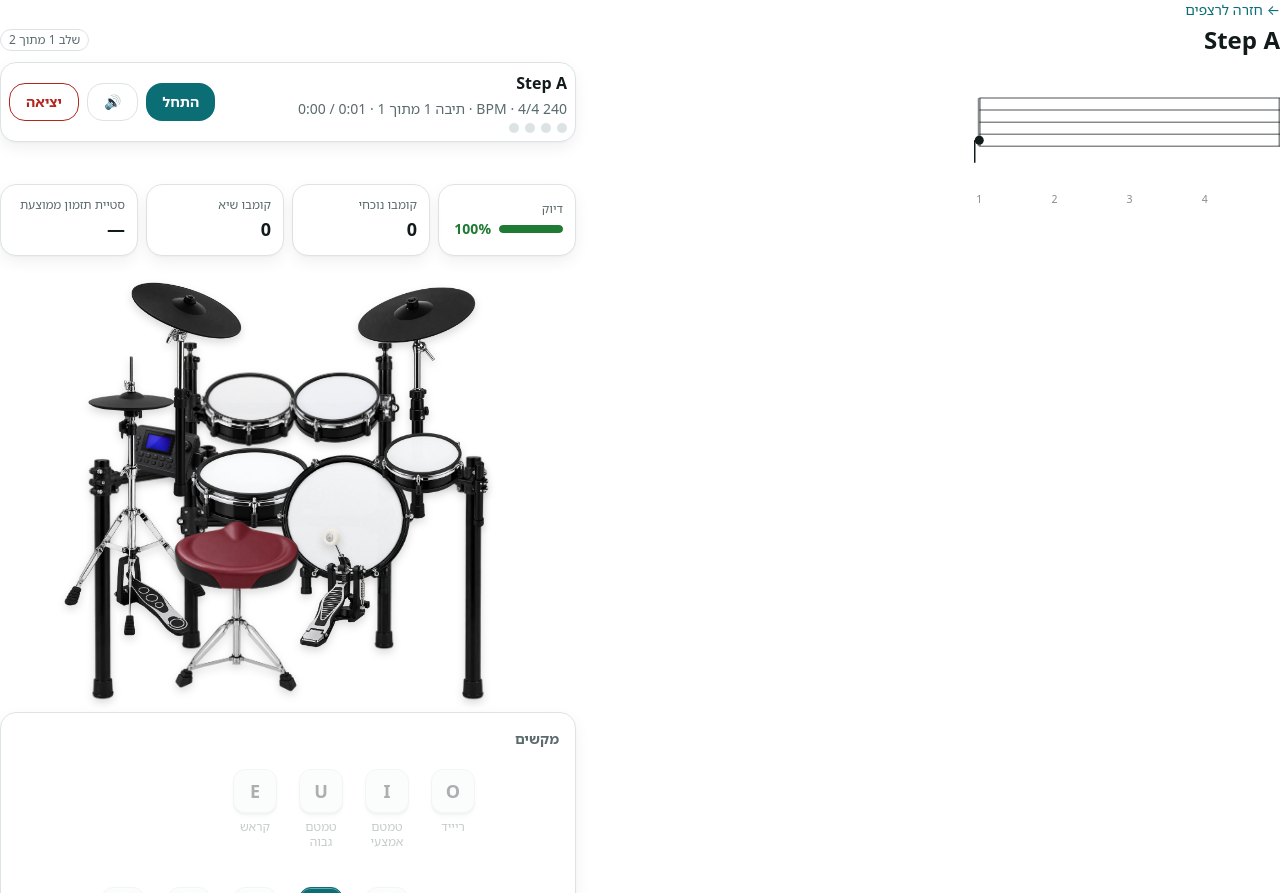
Test: RoutinePlayerPage › runs a 2-step routine end to end without creating a second AudioContext for step 2
Click the button "התחל": click(181, 102) [146,83,215,121]
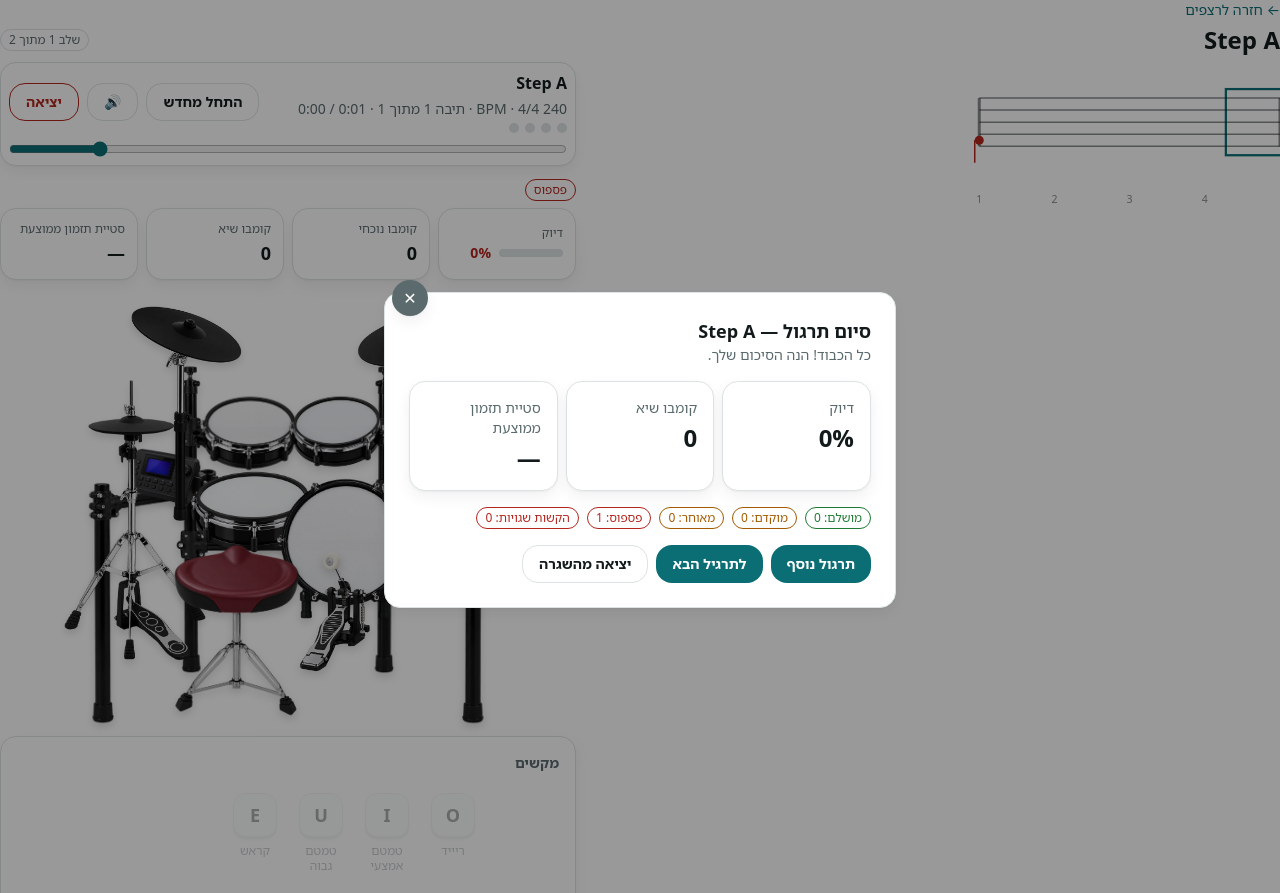
Result: the button "לתרגיל הבא" is shown
Click the button "לתרגיל הבא": click(710, 564) [656,545,763,583]
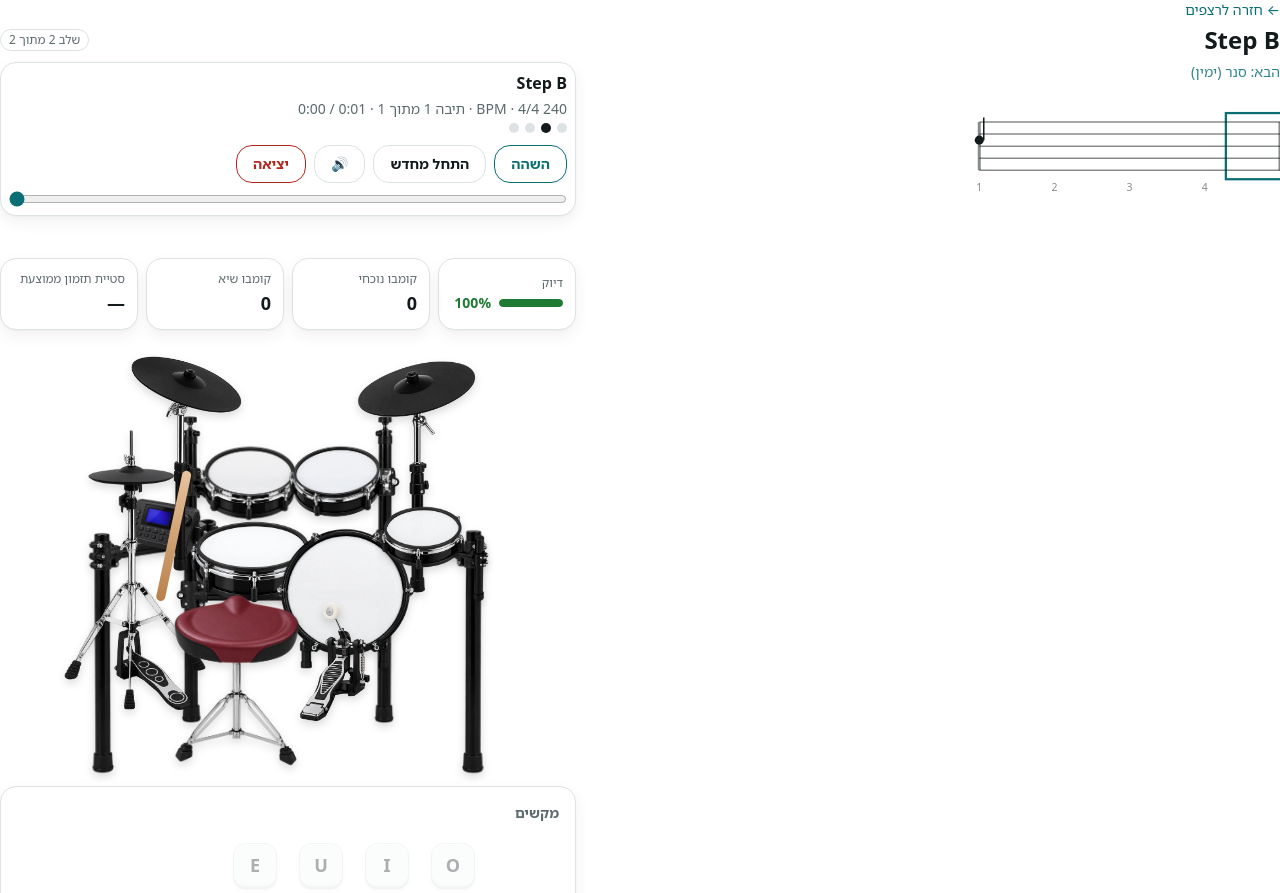
Result: the heading "Step B" is shown at [1204,24,1279,56]
